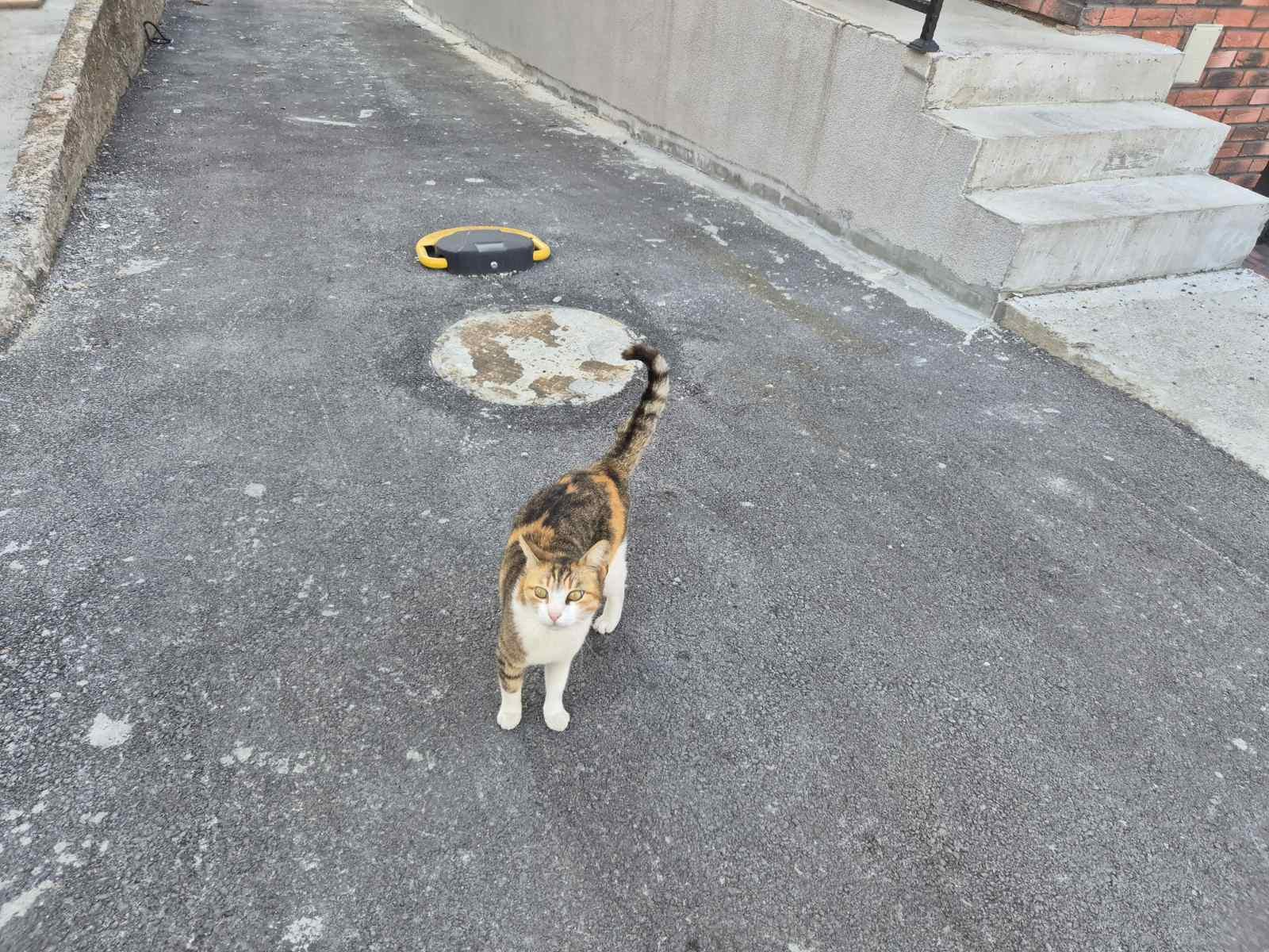macka: (493, 342, 669, 732)
